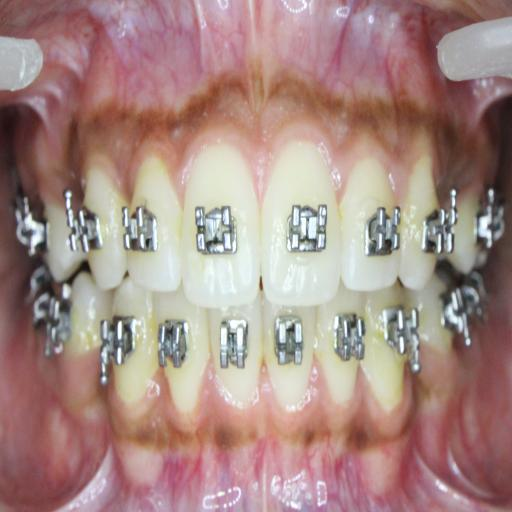correct_brace: (190, 194, 240, 259), (284, 199, 329, 260), (365, 198, 402, 262), (120, 203, 160, 259), (423, 198, 455, 262), (70, 196, 102, 258)
incorrect_brace: (341, 142, 403, 294), (126, 149, 182, 302)
